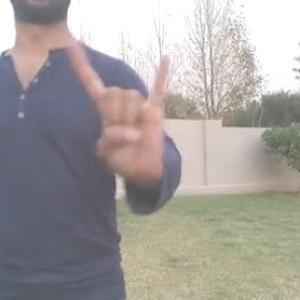takeoff-hand: (66, 39, 175, 178)
